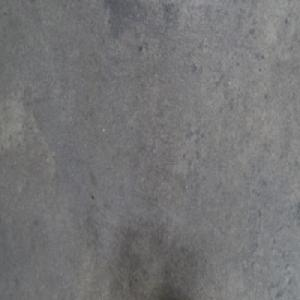AdjustableWrench: (160, 287, 194, 298)
